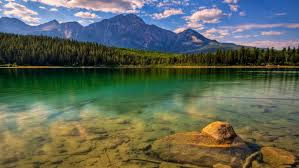lake: (1, 66, 297, 166)
mountain: (7, 19, 259, 66)
sky: (2, 1, 299, 25)
